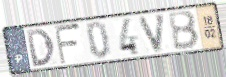0: (85, 20, 112, 61)
4: (116, 18, 142, 58)
B: (167, 9, 202, 52)
D: (25, 27, 56, 69)
F: (53, 23, 83, 67)
V: (137, 12, 168, 54)
